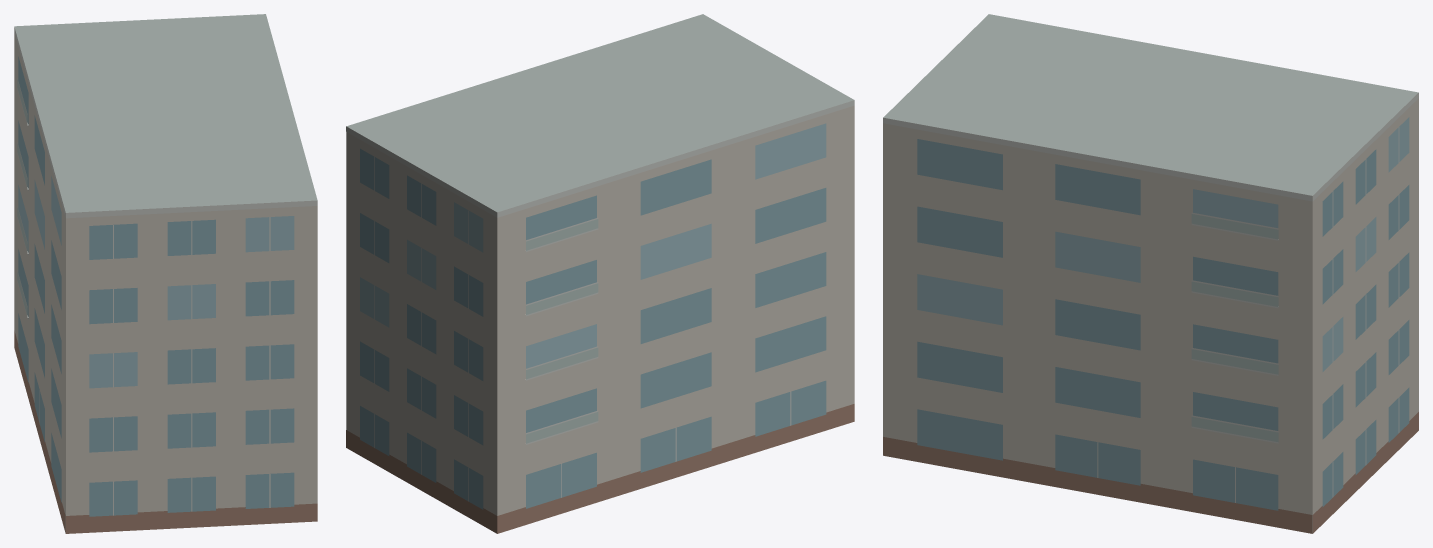
Rendered from survey-upis-32779593.glb.
3 views of the same model, side by side, from view 1: azimuth 30°, elevation 25°; view 2: azimuth 150°, elevation 25°; view 3: azimuth 270°, elevation 25° (orthographic). The views are drawn at different scales.
Parts seen in each view (by area): view 1: survey-upis-32779593.tmp; view 2: survey-upis-32779593.tmp; view 3: survey-upis-32779593.tmp.
Part boxes in pixels (bbox=[...]): survey-upis-32779593.tmp: bbox=[14, 14, 317, 533]; survey-upis-32779593.tmp: bbox=[346, 14, 854, 533]; survey-upis-32779593.tmp: bbox=[883, 14, 1418, 533].
Bounding box in the file's own units: 16.74 × 14.5 × 20.84.
